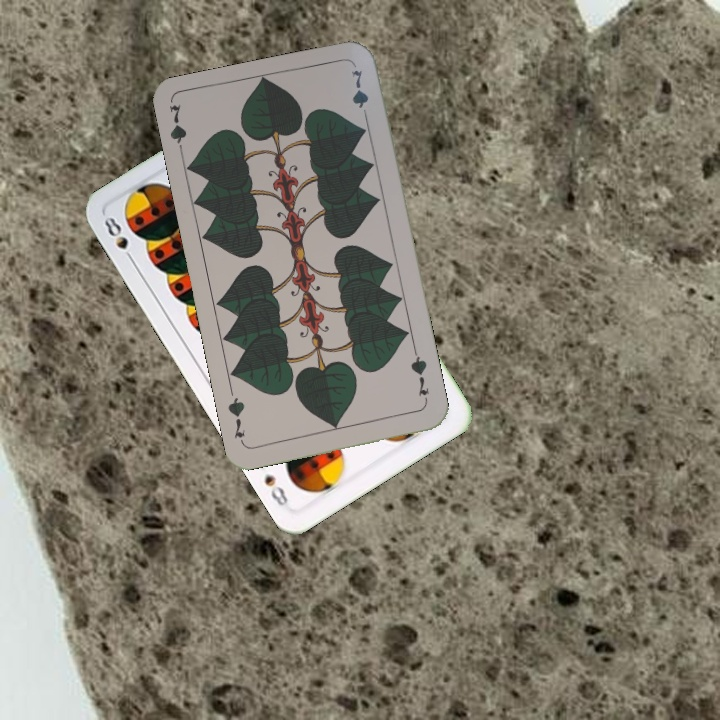G7: (165, 101, 189, 161), (406, 348, 432, 399)
S8: (100, 212, 138, 266)
